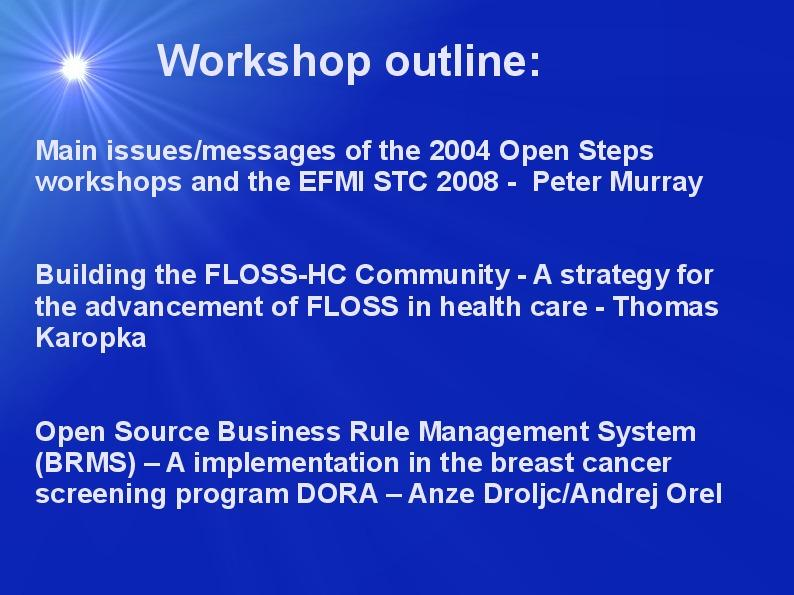paragraph: (20, 120, 759, 538)
title: (142, 31, 557, 103)
